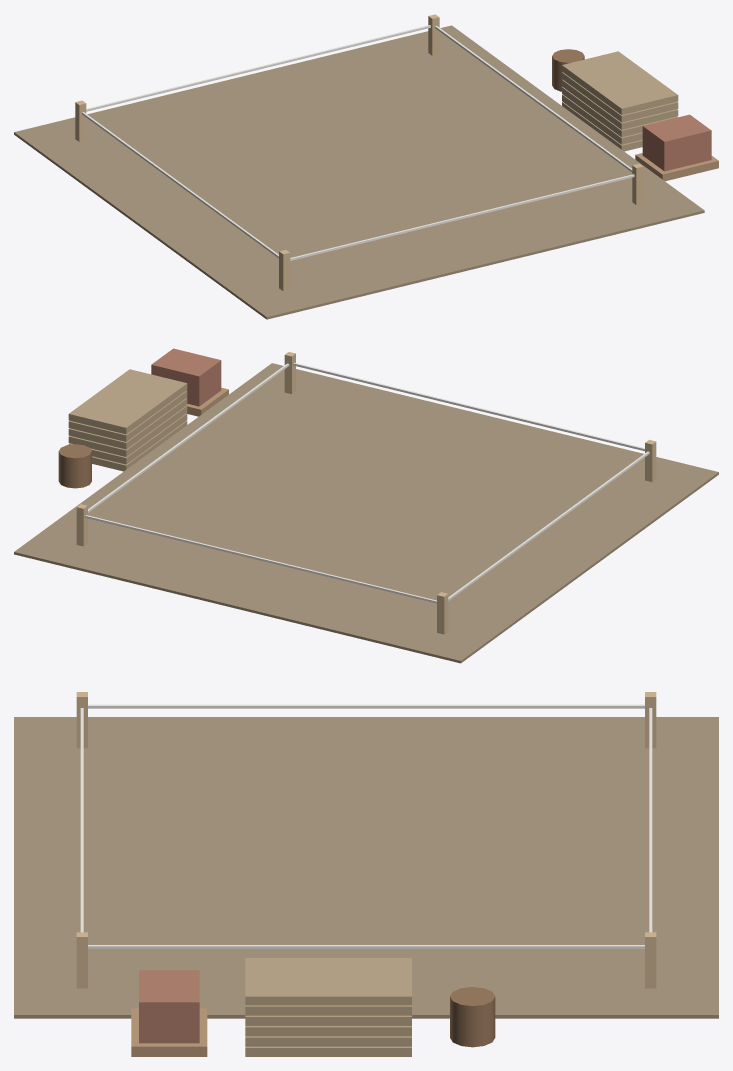
Rendered from nursery_barn_site_0.glb.
3 views of the same model, one above another, from view 1: azimuth 30°, elevation 25°; view 2: azimuth 150°, elevation 25°; view 3: azimuth 270°, elevation 25° (orthographic). The views are drawn at different scales.
Visible parts, largest first — view 1: body; view 2: body; view 3: body.
Part boxes in pixels (x1,y1,x2,y2): body: (14, 14, 718, 319); body: (14, 348, 718, 663); body: (14, 692, 718, 1056).
Bounding box in the file's own units: 2.1 × 0.176 × 1.86.
